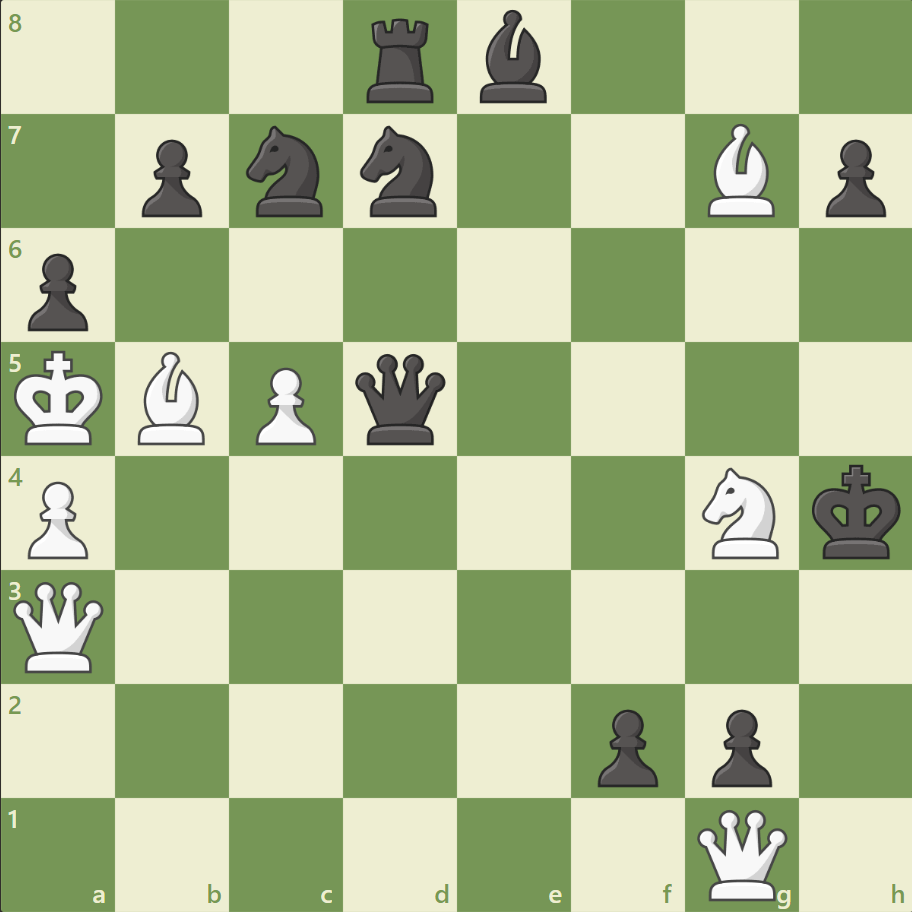B: (698, 120, 782, 222), (131, 347, 215, 449)
K: (11, 344, 111, 452)
N: (692, 461, 789, 564)
P: (247, 359, 322, 450), (20, 473, 95, 564)
Q: (10, 576, 109, 676), (691, 804, 790, 903)
b: (471, 6, 555, 109)
k: (806, 458, 906, 566)
n: (351, 121, 449, 223), (238, 121, 335, 223)
p: (133, 132, 208, 223), (20, 246, 95, 337), (701, 700, 776, 791), (815, 132, 889, 223), (588, 700, 662, 791)
q: (351, 349, 450, 449)
r: (360, 12, 442, 109)
